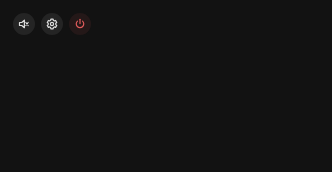
Test case: notch panel surfaces › shows a quit confirmation, disarms on leave and checks its real deadline
Later steps or results of the test are not shown.
Click the button named "Quit".
click(80, 24)  # box [68,12,92,36]
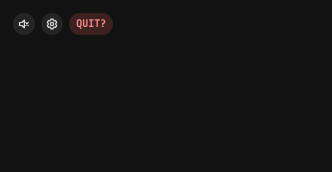
Expected: the icon "QUIT?" is shown, [69,13,113,35]
